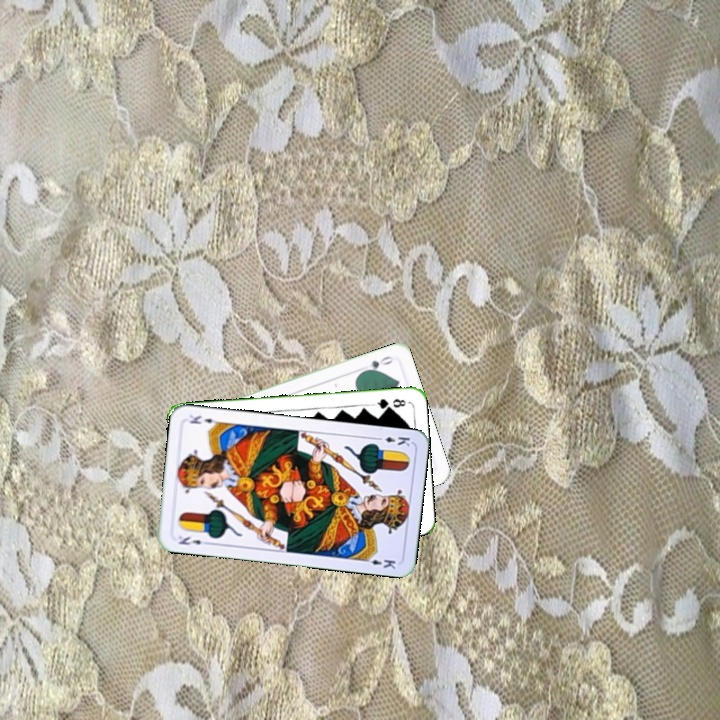EK: (372, 432, 412, 449), (174, 532, 212, 548)
G8: (370, 395, 408, 411)
GO: (358, 352, 396, 375)
